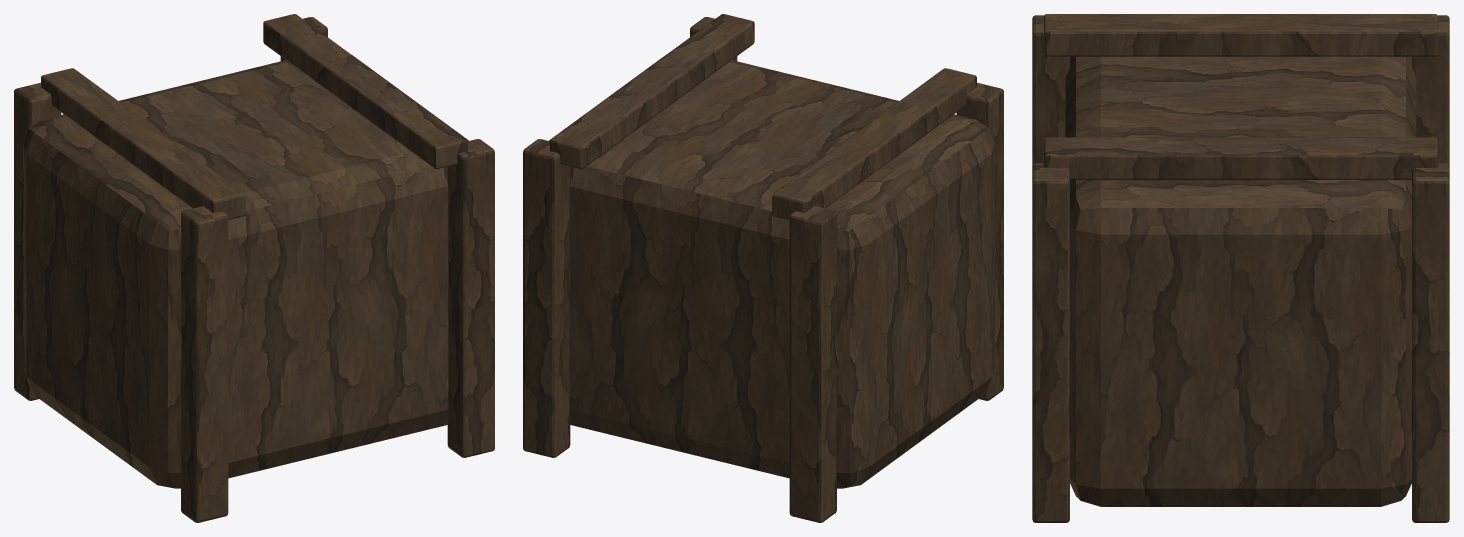
The picture shows the model from 3 angles, left to right: view 1: azimuth 30°, elevation 25°; view 2: azimuth 150°, elevation 25°; view 3: azimuth 270°, elevation 25°; orthographic projection. The views are drawn at different scales.
Visible parts, largest first — view 1: Closed supply chest; view 2: Closed supply chest; view 3: Closed supply chest.
Boxes of the visible parts, x1,y1,x2,y2 form: Closed supply chest: (14,14,494,522); Closed supply chest: (523,14,1003,522); Closed supply chest: (1032,14,1449,522).
Size of the model in its own units: 1.5 by 1.35 by 1.43.
1 material, 1 textured.
